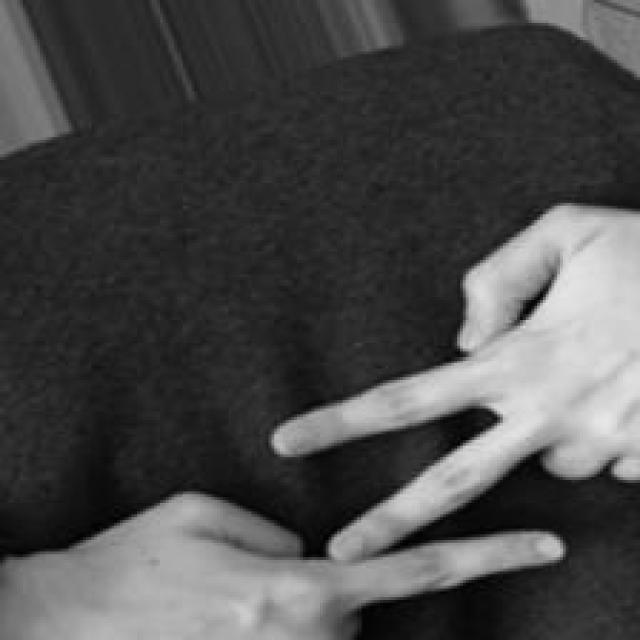Z: (87, 200, 640, 640)
